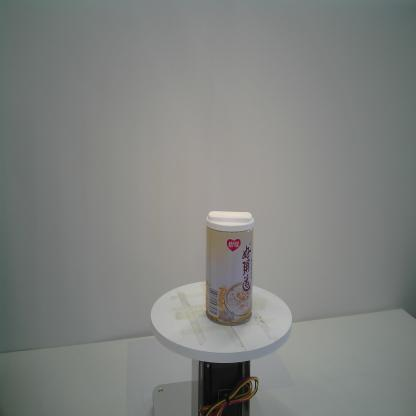Canned Food: (203, 208, 256, 328)
